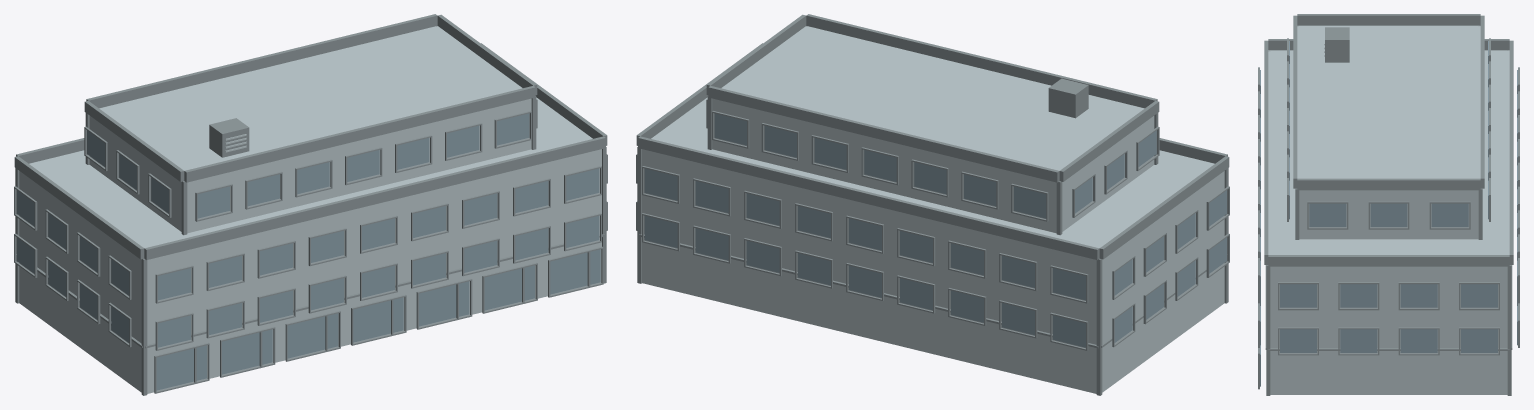
Rendered from lot_4x2_slab.glb.
The picture shows the model from 3 angles, left to right: view 1: azimuth 30°, elevation 25°; view 2: azimuth 150°, elevation 25°; view 3: azimuth 270°, elevation 25°; orthographic projection. The views are drawn at different scales.
Visible parts, largest first — view 1: lot_4x2_slab; view 2: lot_4x2_slab; view 3: lot_4x2_slab.
Part boxes in pixels (x1,y1,x2,y2): lot_4x2_slab: (14,14,607,395); lot_4x2_slab: (636,14,1229,395); lot_4x2_slab: (1258,14,1519,395).
Bounding box in the file's own units: 31.74 × 13.5 × 15.74.
